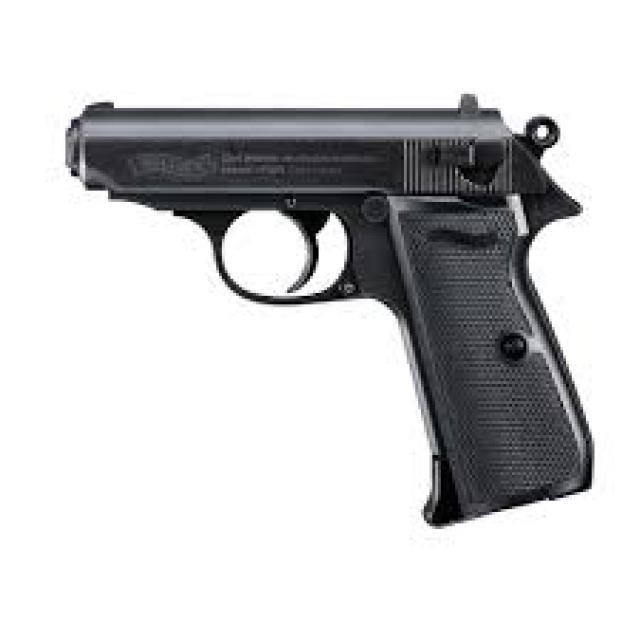pistol: (56, 87, 610, 540)
